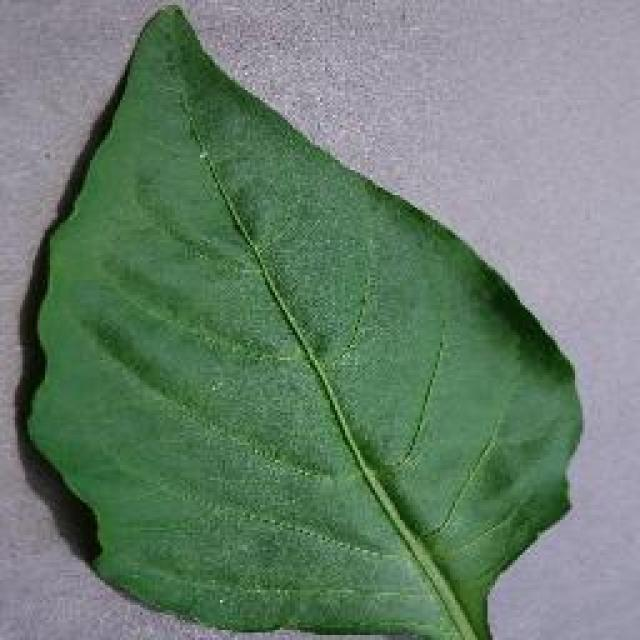Chilli_Healthy: (17, 2, 585, 638)
